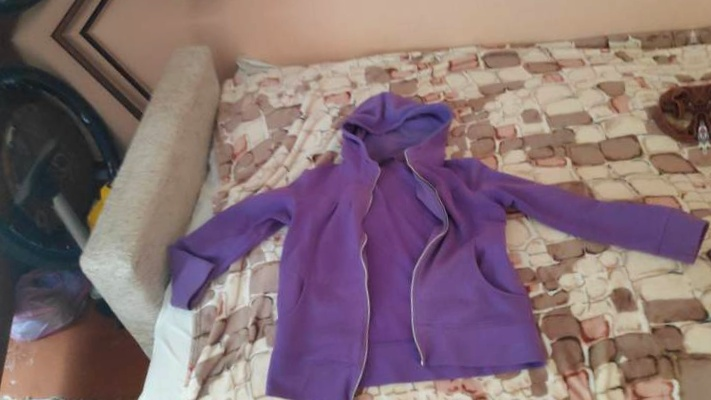Hoodie: (144, 46, 711, 400), (696, 0, 711, 361)
